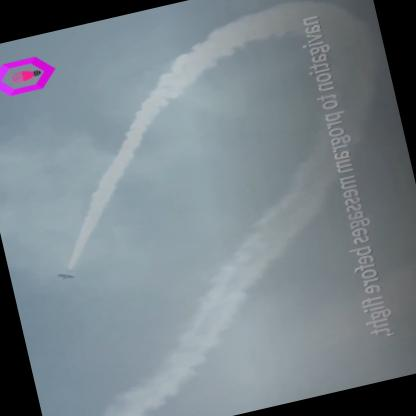plane: (50, 265, 83, 291)
